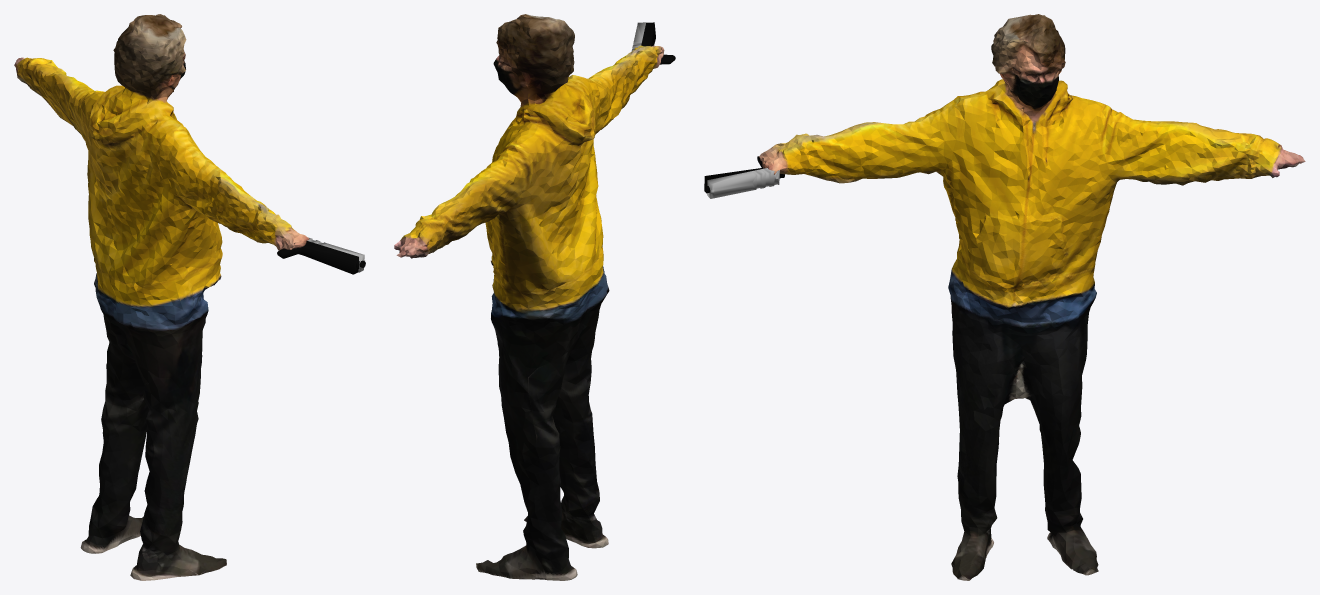
The model's file is Ethan_withPistol_NOARMATURE.fbx.
3 views of the same model, side by side, from view 1: azimuth 30°, elevation 25°; view 2: azimuth 150°, elevation 25°; view 3: azimuth 270°, elevation 25° (orthographic). The views are drawn at different scales.
Parts seen in each view (by area): view 1: textured_output; view 2: textured_output; view 3: textured_output.
Part boxes in pixels (x1,y1,x2,y2): textured_output: (14, 14, 365, 580); textured_output: (394, 14, 675, 580); textured_output: (704, 14, 1305, 580).
Bounding box in the file's own units: 10.45 × 45.82 × 46.07.
Materials: 3 (1 with a texture image).
